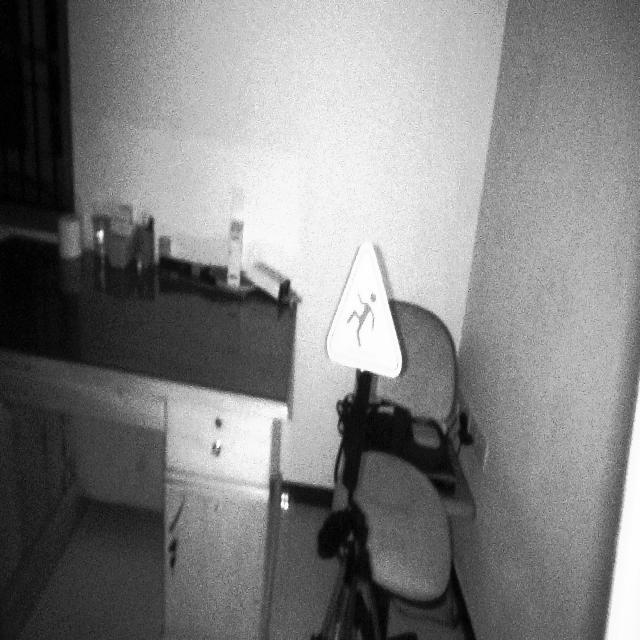Sign: (325, 241, 403, 379)
